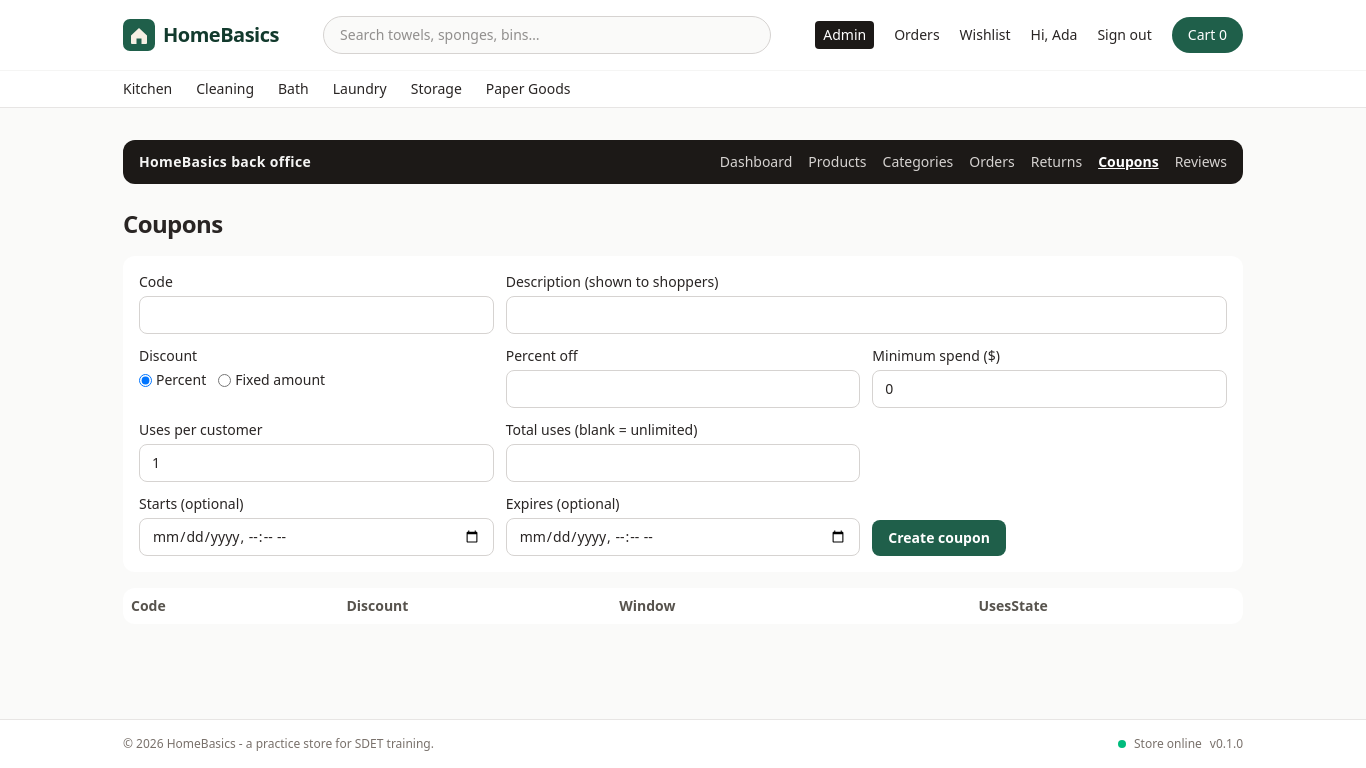
Scenario: admin coupons (ADM-05) › shows field errors from the server
Type "WELCOME10" into the field with test id "coupon-code" at (316,315), box [139, 296, 494, 334]
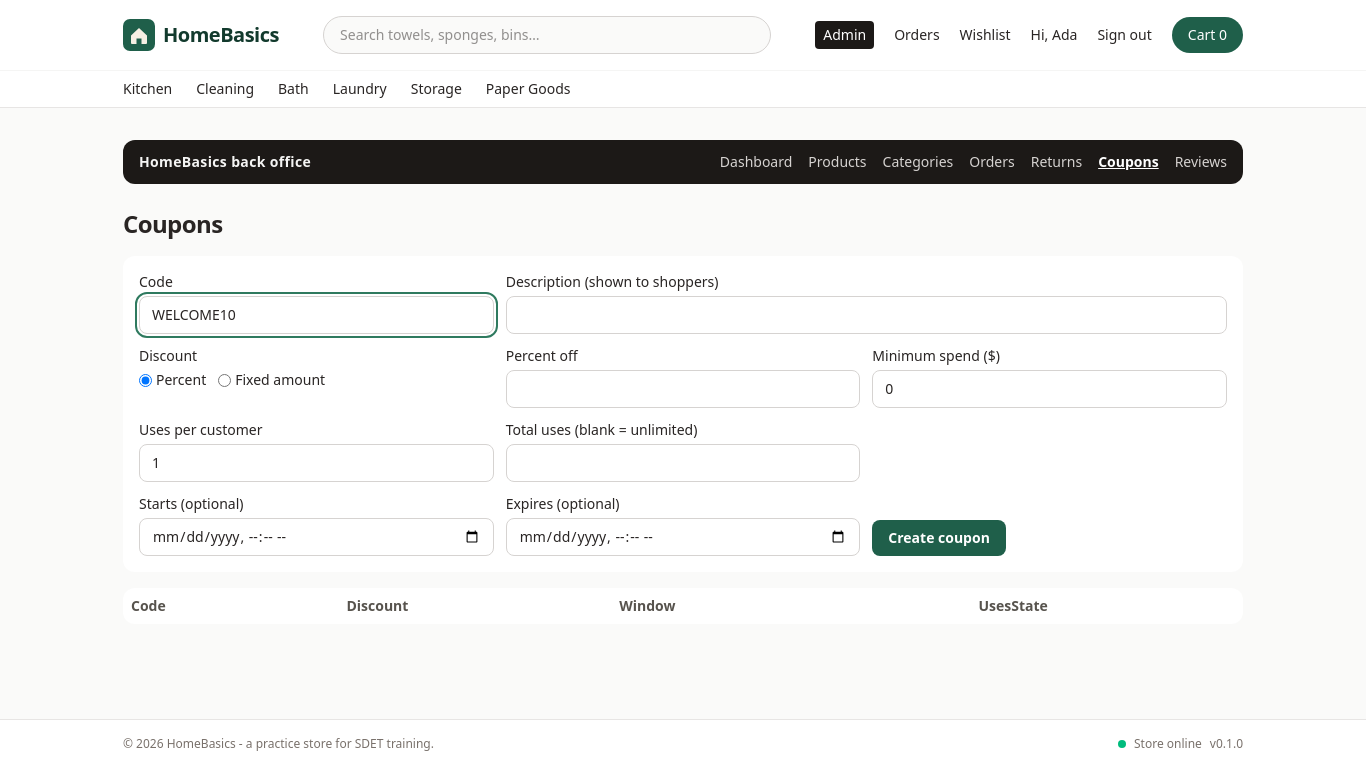
Type "10" into the number field with test id "coupon-percent" at (683,389), box [506, 370, 860, 408]
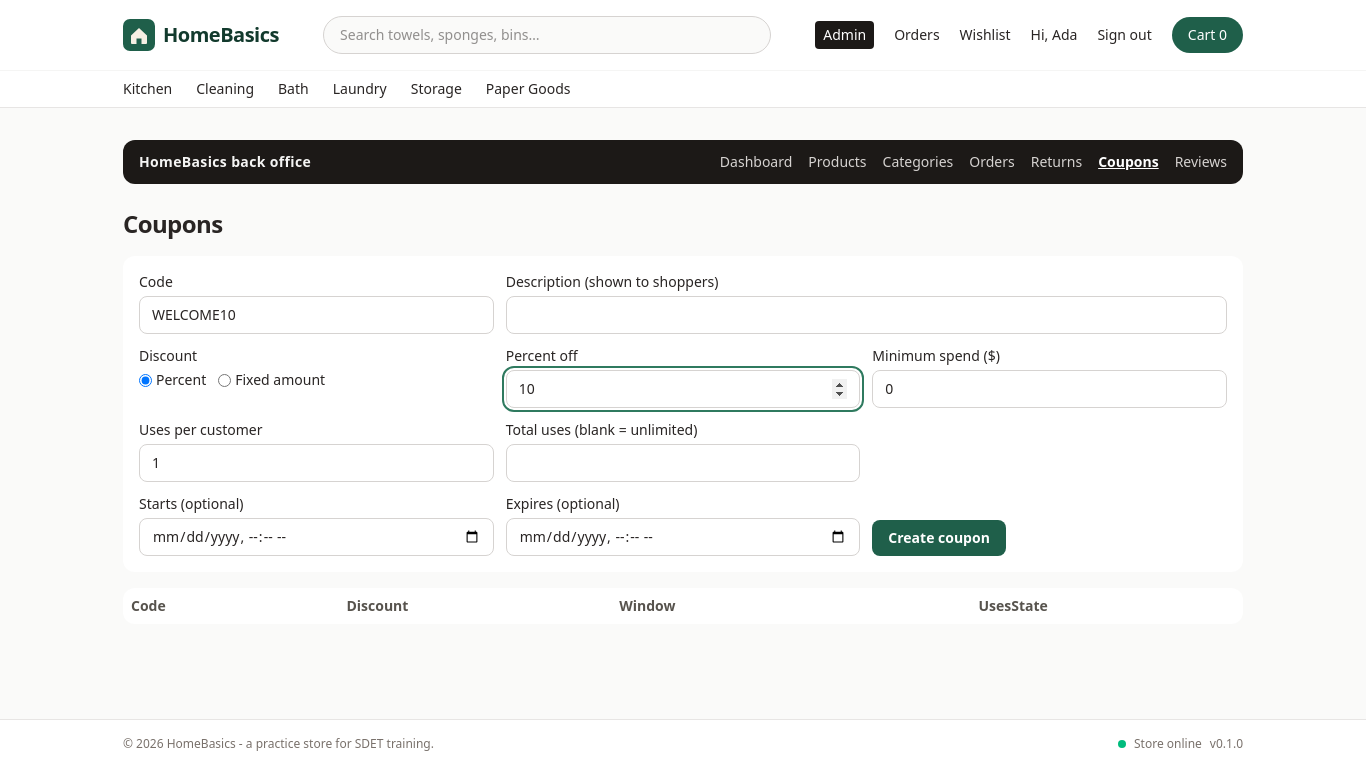
Click the button with test id "coupon-create" at (939,538), box [872, 520, 1006, 556]
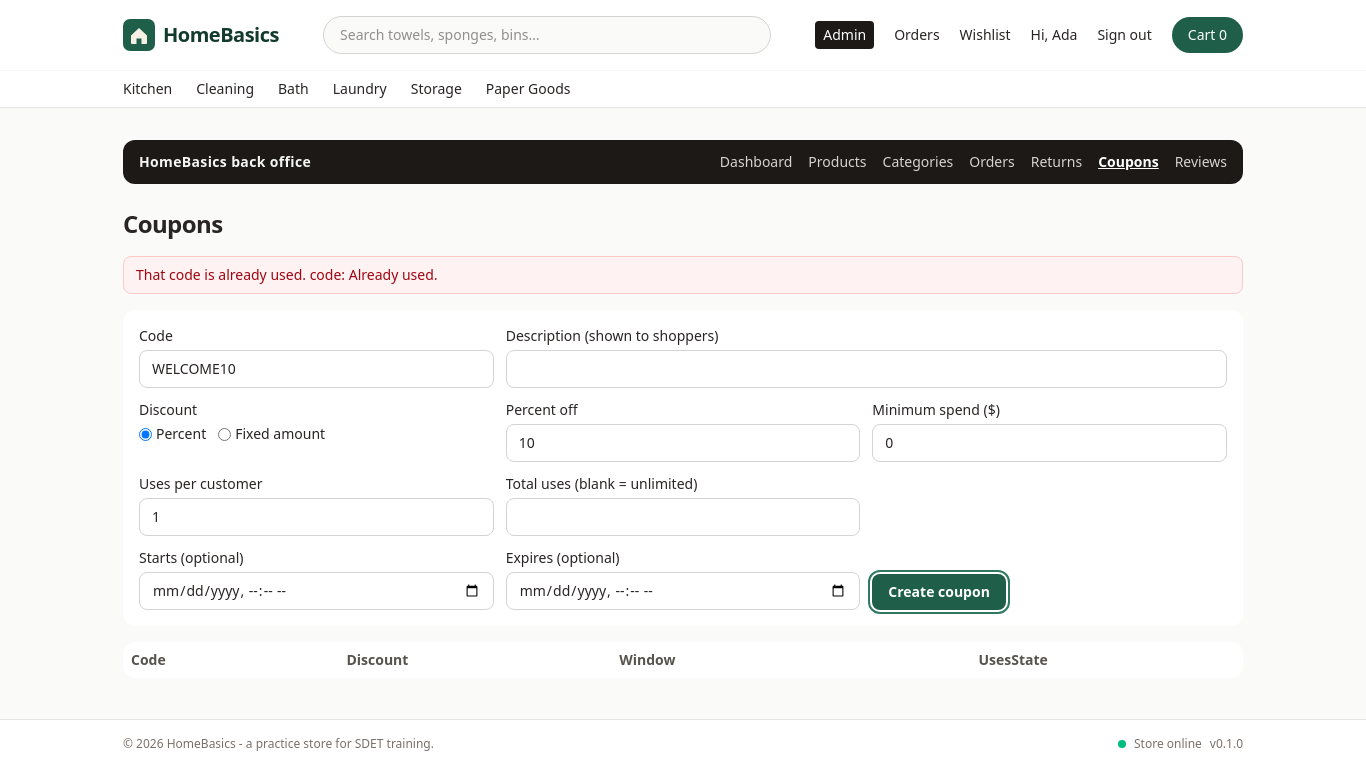
Now the message with test id "admin-notice" shows "code: Already used.", box [136, 265, 438, 284]
